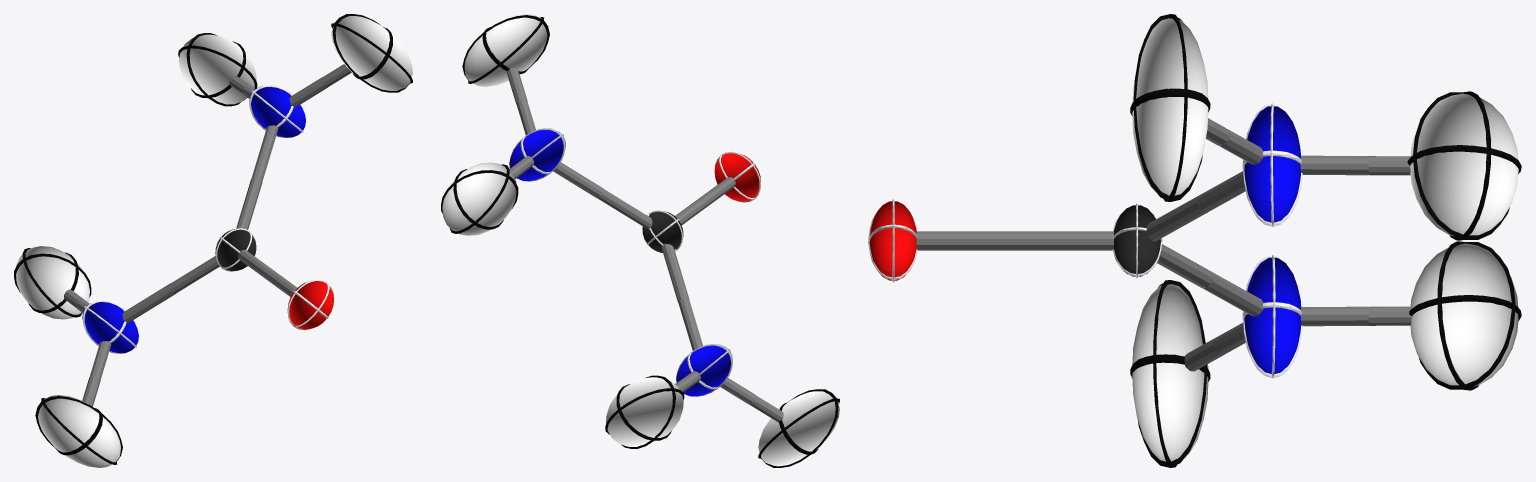
File: urea_noncc.obj
The picture shows the model from 3 angles, left to right: view 1: azimuth 30°, elevation 25°; view 2: azimuth 150°, elevation 25°; view 3: azimuth 270°, elevation 25°; orthographic projection. The views are drawn at different scales.
Visible parts, largest first — view 1: object 7, H1, H2, object 8, N, object 6, O, C, object 17, N=C, C=N, object 18 (+3 smaller); view 2: object 8, H2, H1, object 7, object 6, N, O, C, object 18, C=N, N=C, object 17 (+4 smaller); view 3: H2, object 8, H1, object 7, N, object 6, O, C, O=C, C=O, N=H2, object 22 (+8 smaller).
Part boxes in pixels (x1,y1,x2,y2): object 7: (35,395,122,467); H1: (331,14,412,92); H2: (178,33,257,106); object 8: (14,246,91,319); N: (249,85,305,137); object 6: (82,300,138,353); O: (287,279,333,330); C: (215,228,256,271); object 17: (122,283,175,323); N=C: (251,125,278,181); C=N: (236,178,262,229); object 18: (169,255,219,293); object 8: (605,375,684,448); H2: (441,162,518,235); H1: (462,14,549,86); object 7: (758,389,839,467); object 6: (676,344,732,396); N: (509,128,565,181); O: (714,151,760,202); C: (642,210,683,252); object 18: (661,244,689,302); C=N: (598,189,652,229); N=C: (553,162,603,198); object 17: (678,298,702,350); H2: (1407,91,1521,240); object 8: (1409,241,1521,390); H1: (1130,14,1210,201); object 7: (1130,280,1210,467); N: (1242,103,1302,226); object 6: (1242,255,1302,378); O: (868,199,917,282); C: (1112,203,1162,278); O=C: (916,231,1015,250); C=O: (1015,231,1113,250); N=H2: (1300,155,1368,175); object 22: (1300,306,1368,326).
Size of the model in its own units: 3.63 by 3.63 by 3.37.
